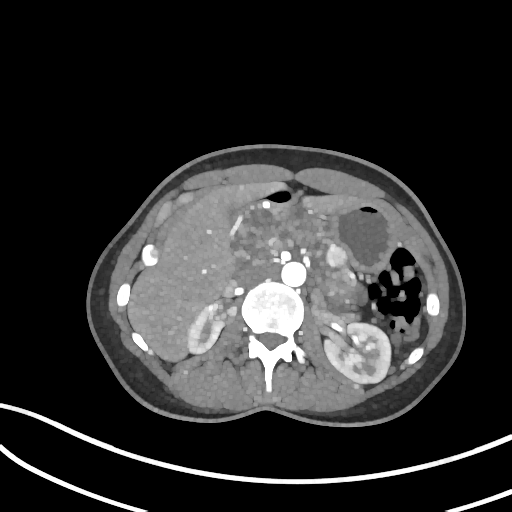Lesion: (212, 297, 236, 324)
